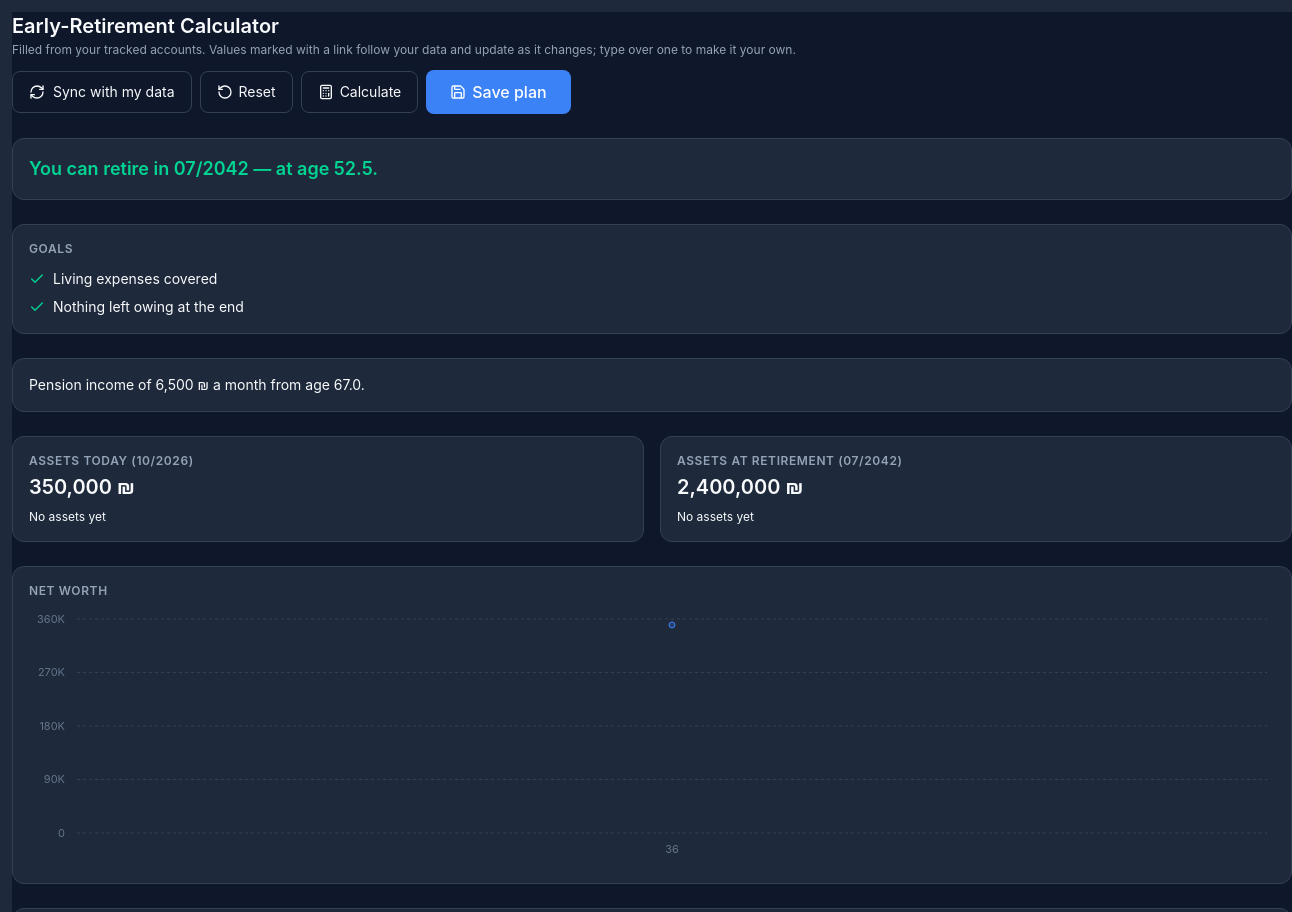
Test case: EarlyRetirement › calculates without going through the mutation cache — it writes nothing
This screenshot has width=1292, height=912.
What coordinates should you click on to do the following:
click the button with test id "fire-calculate"
I would click on:
 (359, 92)
Its box is [301,71,418,113].
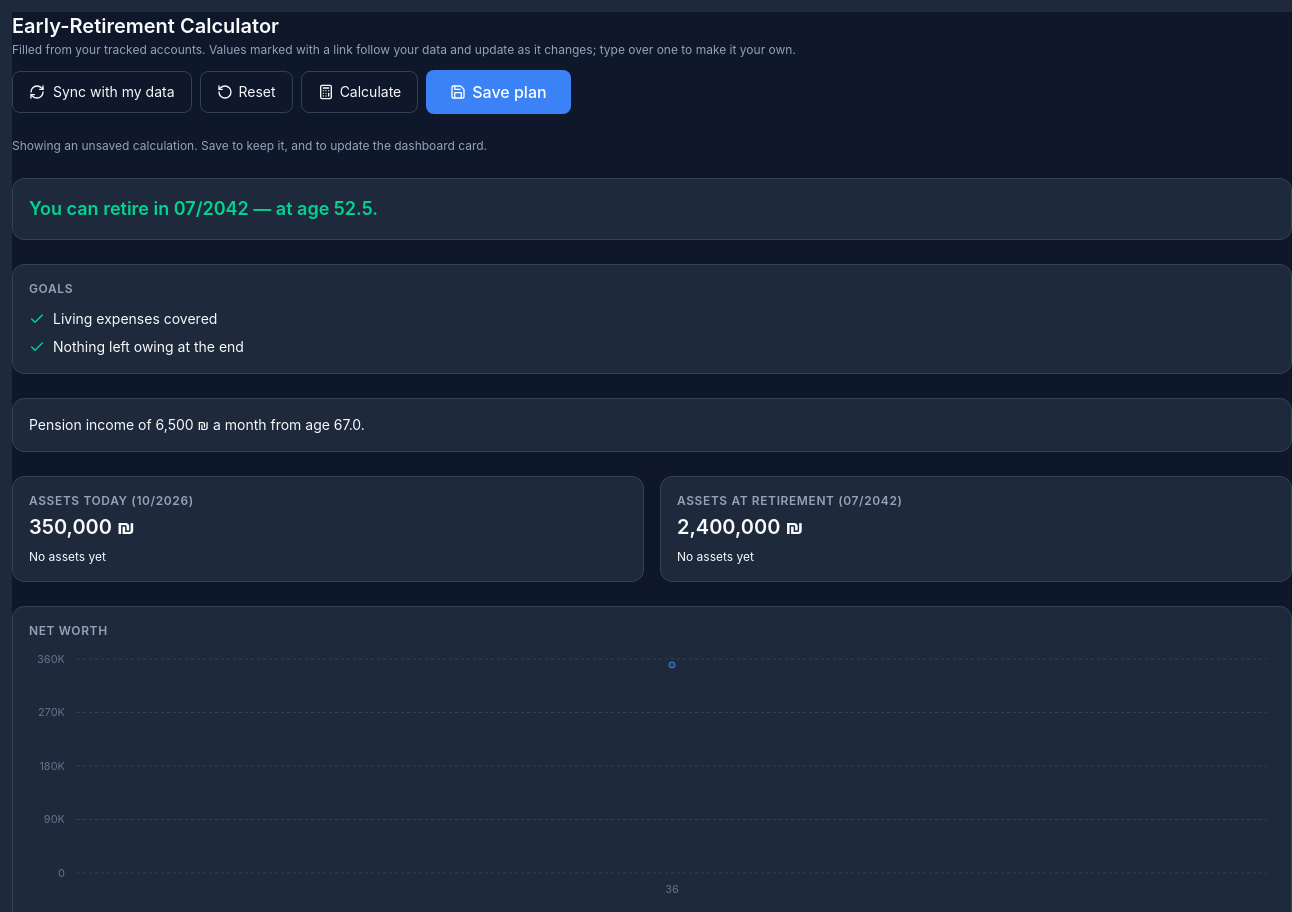
Expected: the text with test id "fire-preview-note" is shown, [12,138,487,153]
